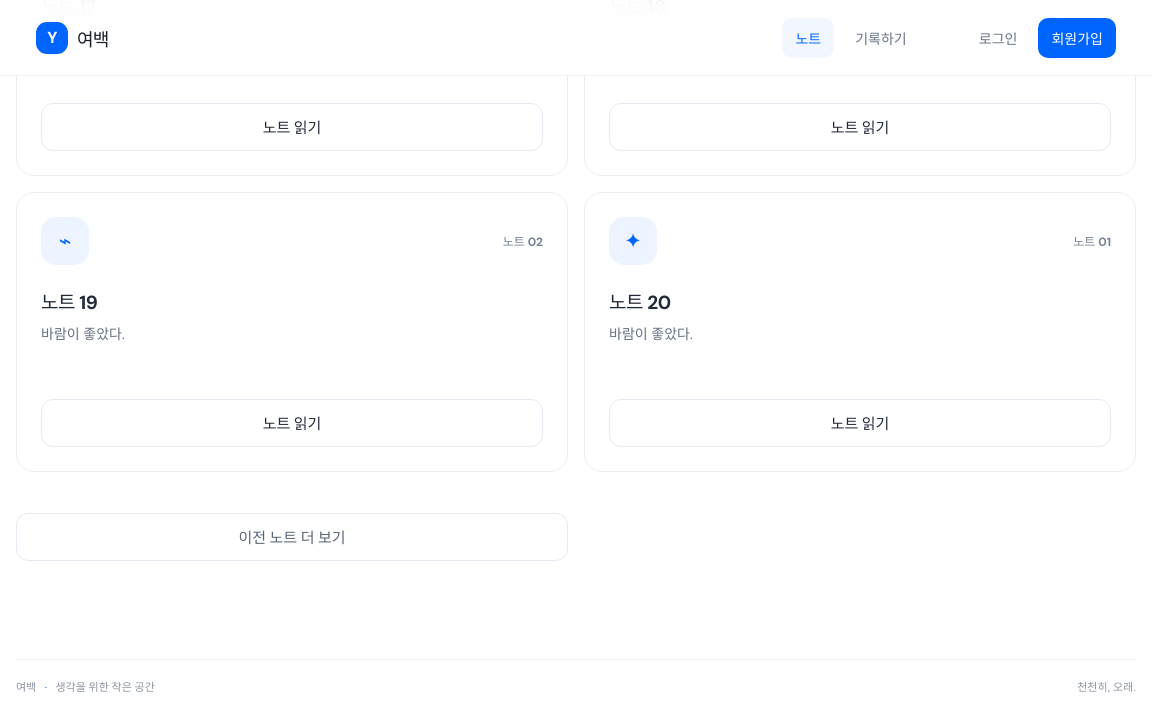
Test: 여백 페이지 흐름 › 목록 API 결과를 표시하고 더 보기 요청으로 다음 페이지를 붙인다
(page scrolled)
Click the button with class "more-button": coordinates (292, 537) [16,513,568,561]
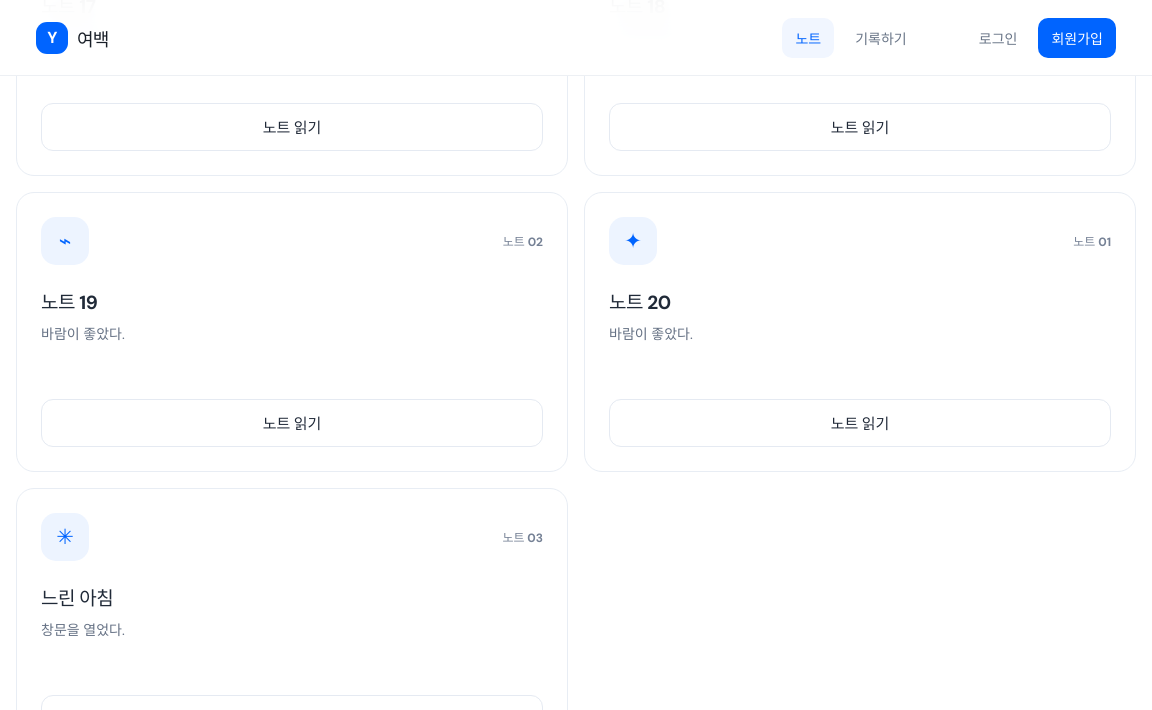
Now the text "느린 아침" is shown, box [41,583,113,611]
